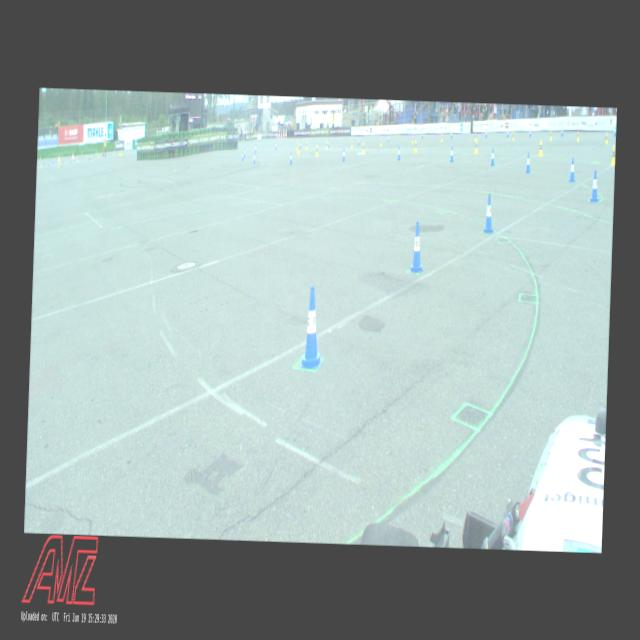blue_cone: (299, 285, 324, 369), (409, 221, 425, 273), (483, 194, 495, 233), (590, 170, 600, 202), (568, 157, 576, 181), (524, 152, 530, 172), (490, 148, 495, 166), (449, 146, 454, 162), (397, 145, 401, 160), (342, 148, 345, 160), (290, 151, 292, 164), (253, 152, 255, 164), (241, 150, 243, 160), (614, 126, 616, 136), (560, 127, 562, 136), (528, 128, 530, 136), (484, 129, 486, 137), (243, 148, 245, 156), (254, 144, 256, 152), (298, 141, 300, 148), (450, 131, 452, 138), (506, 130, 508, 136)
yellow_cone: (610, 144, 615, 164), (538, 140, 543, 156), (473, 140, 478, 153), (548, 130, 552, 140), (413, 139, 416, 152), (315, 145, 318, 156), (605, 132, 608, 143), (362, 142, 364, 154), (576, 132, 579, 140), (298, 144, 300, 154), (350, 139, 352, 148), (296, 141, 298, 150), (305, 141, 307, 150), (411, 135, 413, 143), (512, 132, 514, 140), (380, 138, 382, 146), (440, 133, 442, 141), (325, 140, 327, 148), (474, 134, 476, 140)
